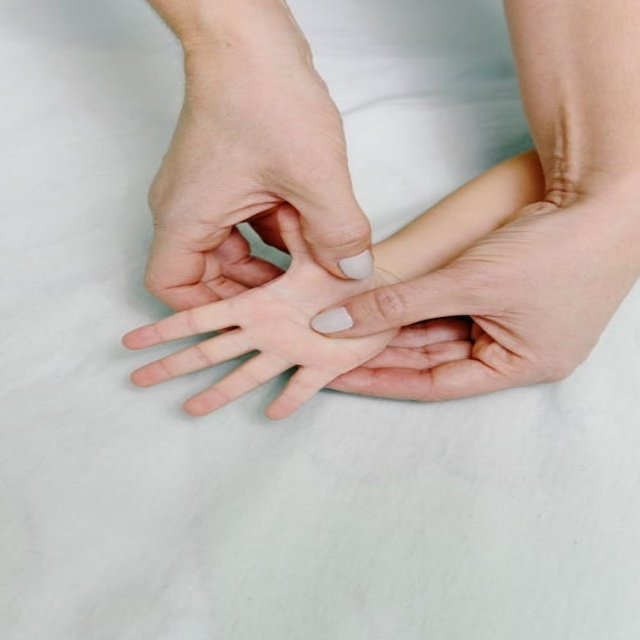Sin_guantes: (307, 204, 636, 412), (115, 68, 384, 302), (120, 209, 411, 423)
